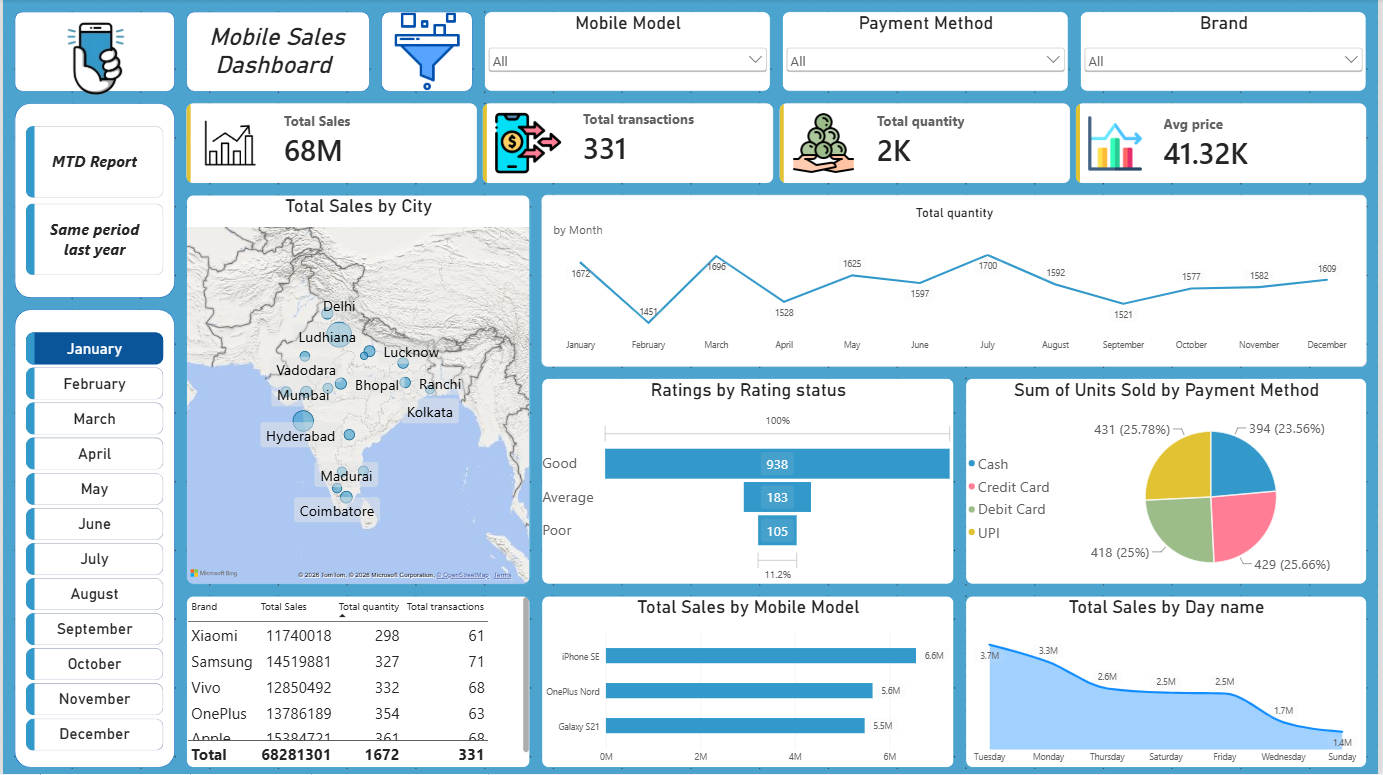

What the dashboard file says about the page in this screenshot:
{"tool":"powerbi","page":{"name":"Sales Dashboard","canvas":[1920,1080],"ordinal":0},"visuals":[{"type":"shape","box":[16,16,224,112],"z":0},{"type":"shape","box":[16,432,224,640],"z":500},{"type":"image","box":[64,16,128,128],"z":1000},{"type":"shape","box":[16,144,224,272],"z":2000},{"type":"advancedSlicerVisual","fields":{"Values":["Calender_lookup.Date.Variation.Date Hierarchy.Month"]},"box":[32,464,192,592],"z":4000},{"type":"cardVisual","fields":{"Data":["_Measures.Total_sales","_Measures.Total_transactions","_Measures.total_qunatity","_Measures.Avg_price"]},"box":[256,144,1648,112],"z":5000},{"type":"slicer","title":"Mobile Model","fields":{"Values":["Sheet1.Mobile Model"]},"box":[672,16,400,112],"z":6000},{"type":"slicer","title":"Brand","fields":{"Values":["Sheet1.Brand"]},"box":[1504,16,400,112],"z":7000},{"type":"slicer","title":"Payment Method","fields":{"Values":["Sheet1.Payment Method"]},"box":[1088,16,400,112],"z":8000},{"type":"shape","box":[528,16,128,112],"z":9000},{"type":"image","box":[512,16,160,112],"z":10000},{"type":"shape","box":[256,16,256,112],"z":11000},{"type":"textbox","box":[288,32,224,96],"z":12000},{"type":"map","fields":{"Category":["Sheet1.City"],"Size":["_Measures.Total_sales"]},"box":[256,272,480,544],"z":13000},{"type":"lineChart","fields":{"Category":["Calender_lookup.Date.Variation.Date Hierarchy.Month"],"Y":["_Measures.total_qunatity"]},"box":[752,272,1152,240],"z":14000},{"type":"funnel","title":"Ratings by Rating status","fields":{"Category":["Sheet1.Rating_status"],"Y":["Sum(Sheet1.Customer Ratings)"]},"box":[752,528,576,288],"z":15000},{"type":"pieChart","fields":{"Series":["Sheet1.Payment Method"],"Y":["Sum(Sheet1.Units Sold)"]},"box":[1344,528,560,288],"z":16000},{"type":"clusteredBarChart","fields":{"Category":["Sheet1.Mobile Model"],"Y":["_Measures.Total_sales"]},"box":[752,832,576,240],"z":17000},{"type":"areaChart","fields":{"Category":["Calender_lookup.Day name"],"Y":["_Measures.Total_sales"]},"box":[1344,832,560,240],"z":18000},{"type":"tableEx","fields":{"Values":["Sheet1.Brand","_Measures.Total_sales","_Measures.total_qunatity","_Measures.Total_transactions"]},"box":[256,832,480,240],"z":19000},{"type":"pageNavigator","box":[32,176,192,208],"z":19001}]}

Visuals, with their boxes in screenshot pixels (x1, y1, x2, y2), scaled from the page's 1920x1080 canvas onto the 1383x775 screenshot:
shape: 12/11/173/92
shape: 12/310/173/769
image: 46/11/138/103
shape: 12/103/173/299
advancedSlicerVisual - Calender_lookup.Date.Variation.Date Hierarchy.Month: 23/333/161/758
cardVisual - _Measures.Total_sales x _Measures.Total_transactions: 184/103/1371/184
"Mobile Model" slicer: 484/11/772/92
"Brand" slicer: 1083/11/1371/92
"Payment Method" slicer: 784/11/1072/92
shape: 380/11/473/92
image: 369/11/484/92
shape: 184/11/369/92
textbox: 207/23/369/92
map - Sheet1.City x _Measures.Total_sales: 184/195/530/586
lineChart - Calender_lookup.Date.Variation.Date Hierarchy.Month x _Measures.total_qunatity: 542/195/1371/367
"Ratings by Rating status" funnel: 542/379/957/586
pieChart - Sheet1.Payment Method x Sum(Sheet1.Units Sold): 968/379/1371/586
clusteredBarChart - Sheet1.Mobile Model x _Measures.Total_sales: 542/597/957/769
areaChart - Calender_lookup.Day name x _Measures.Total_sales: 968/597/1371/769
tableEx - Sheet1.Brand x _Measures.Total_sales: 184/597/530/769
pageNavigator: 23/126/161/276
